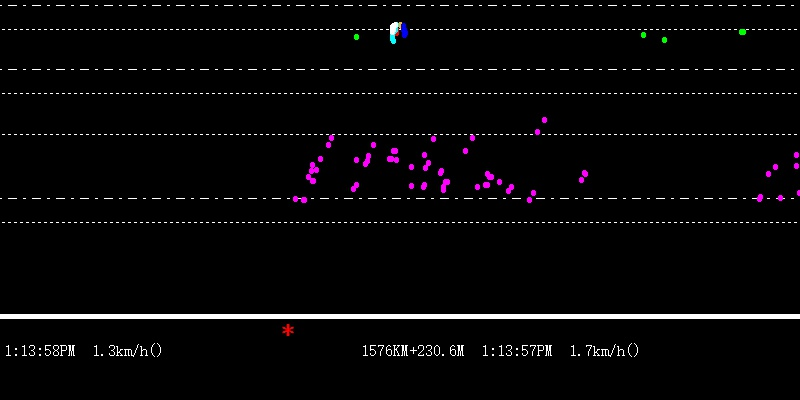face_2: (388, 17, 407, 43)
star: (280, 320, 296, 339)
